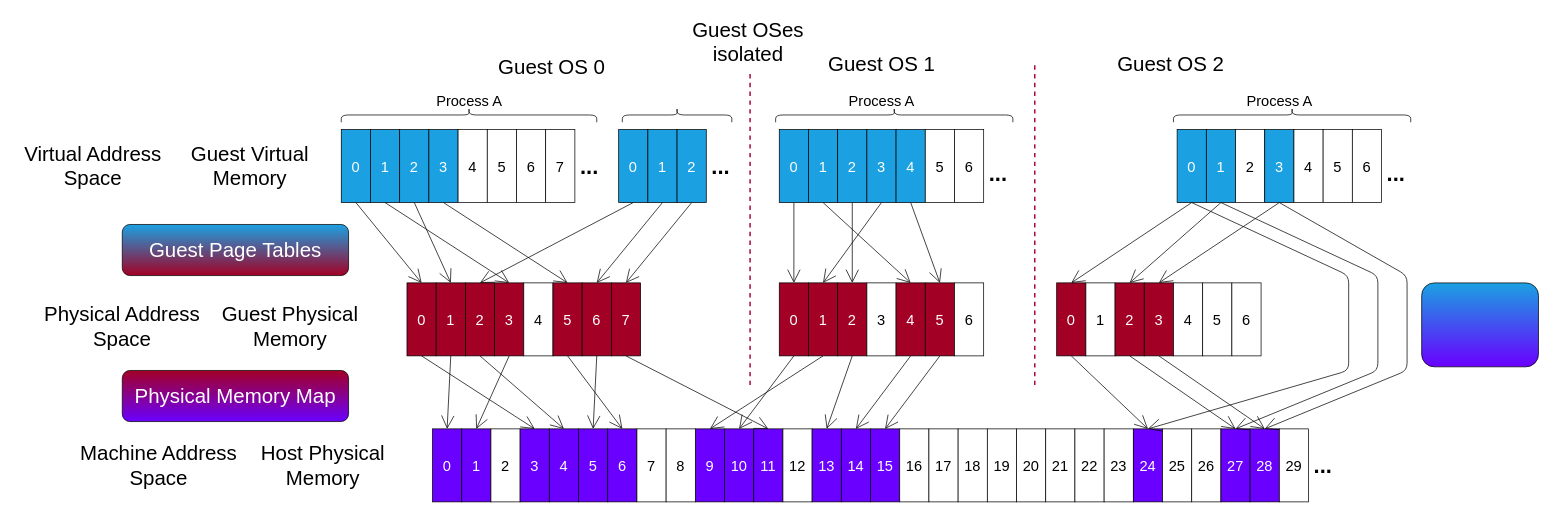
This 1551x515 diagram has some shape labels left out. The shapes that lost their labels are listed below. From the top down, each one's centre as x and y in pixels, then its label:
At (677,114): "Process B".
At (1479,324): "Shadow Page Table".
